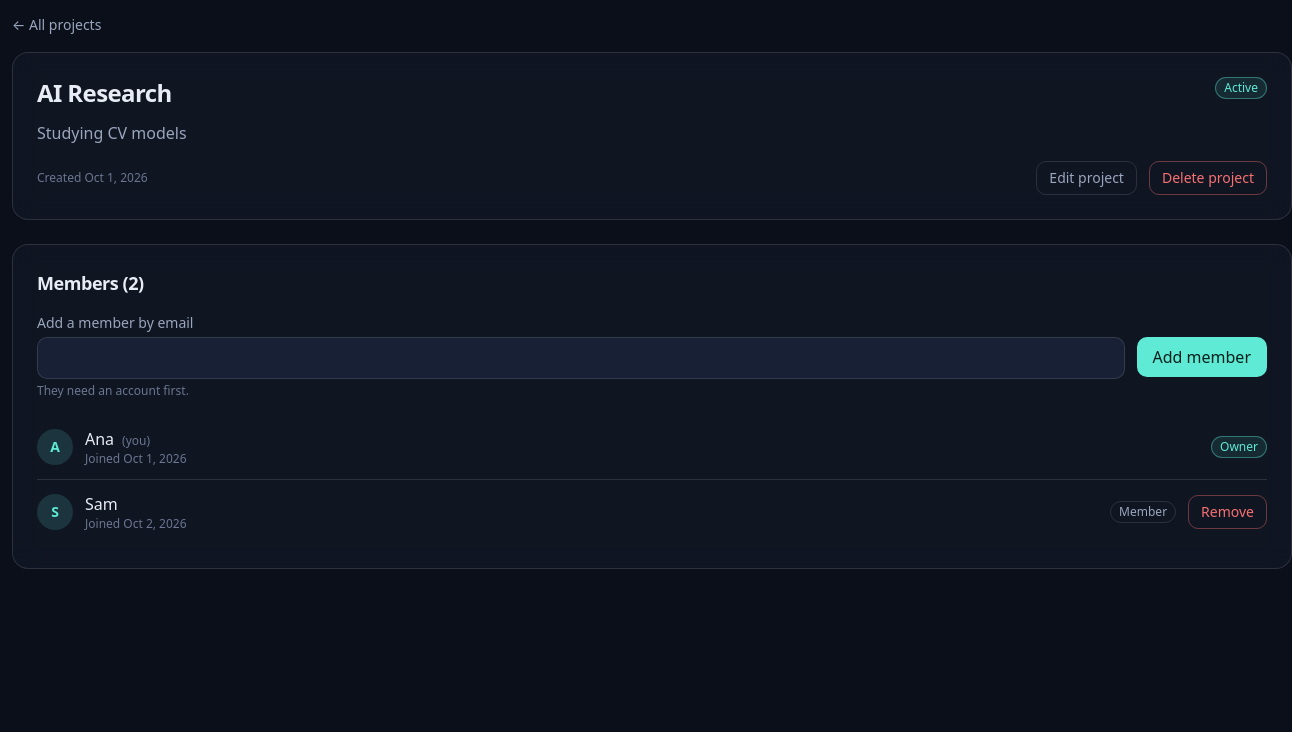
Test case: owner actions › adds a member by email
Check: the heading "AI Research" is shown, box [37,77,172,109]
In the field labelled "Add a member by email": (581, 358) [37,337,1124,379], type "kim@example.com"
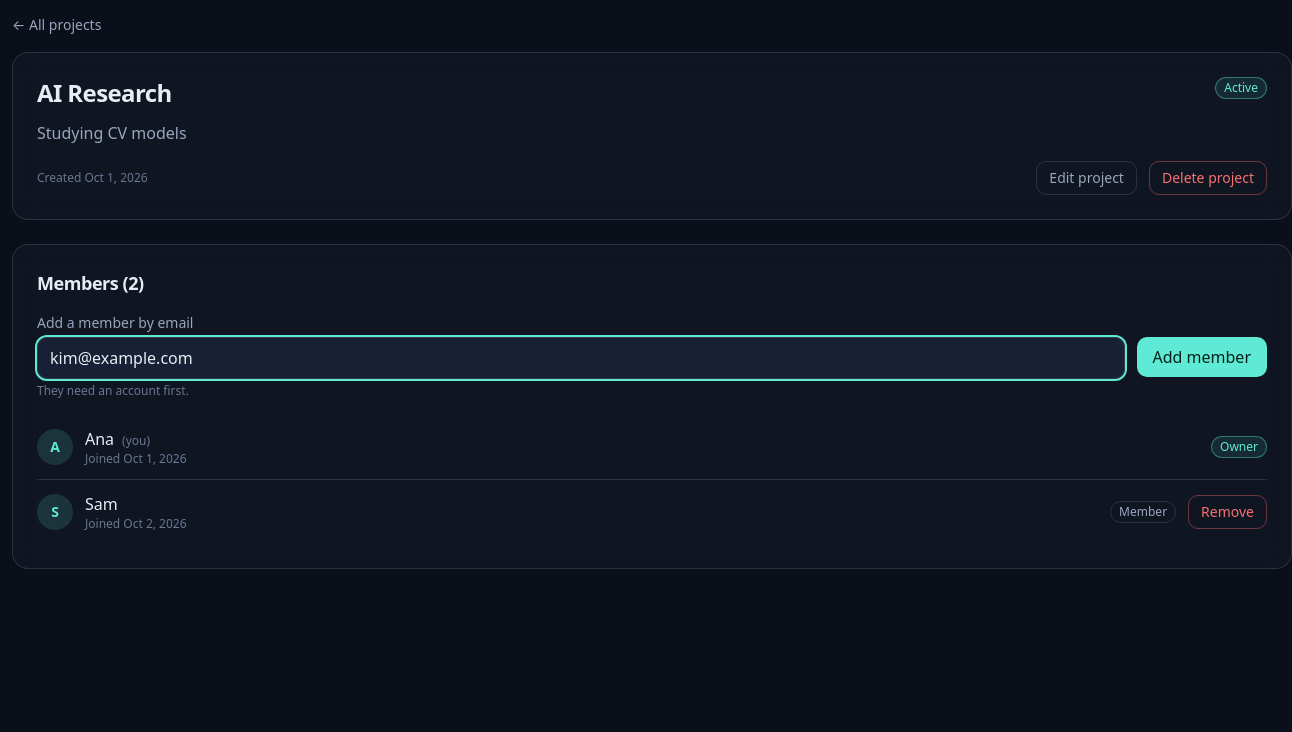
Click the button "Add member": (1202, 357) [1136,337,1267,377]
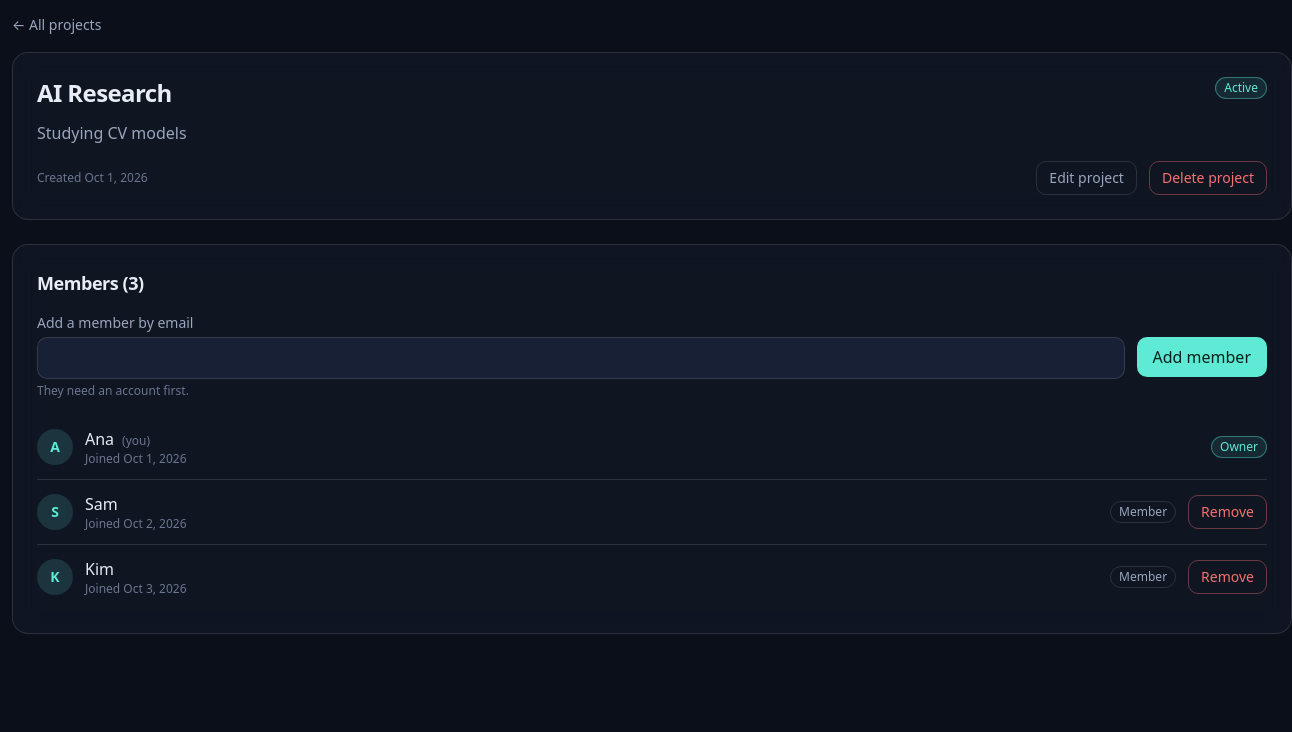
Check: the text "Kim" is shown, box [85,558,114,580]
Check: the heading "Members (3)" is shown, box [37,271,144,295]
Check: the field labelled "Add a member by email" is empty, box [37,337,1124,379]
